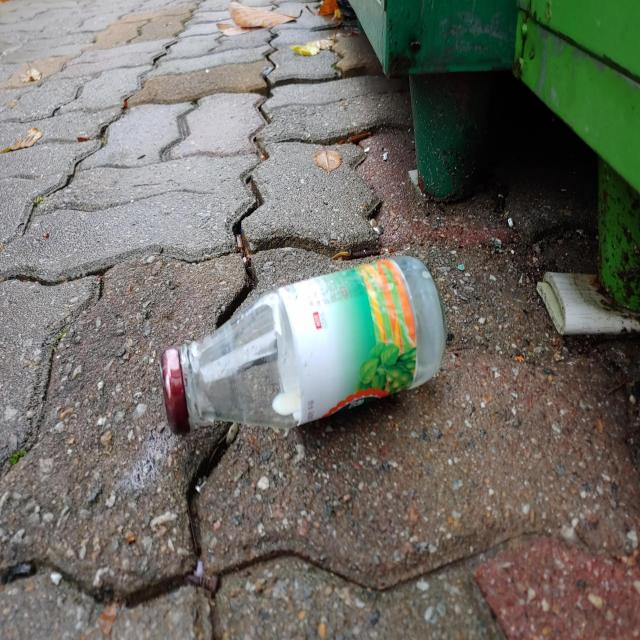glass: (161, 256, 445, 433)
